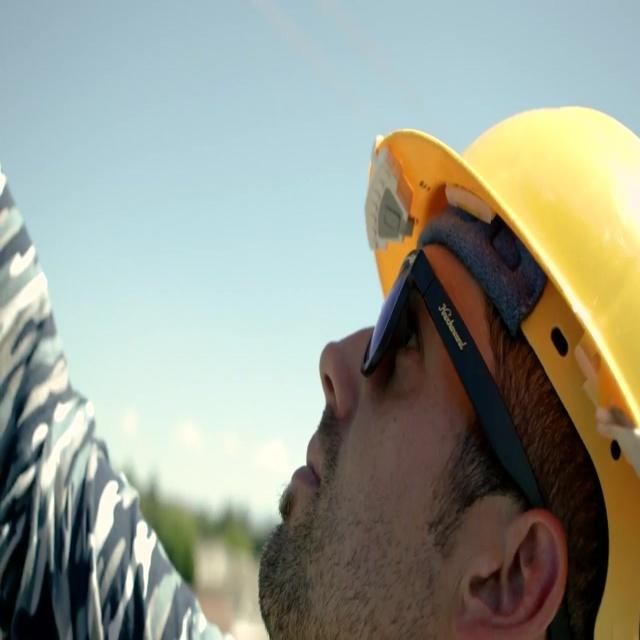helmet: (364, 140, 639, 640)
